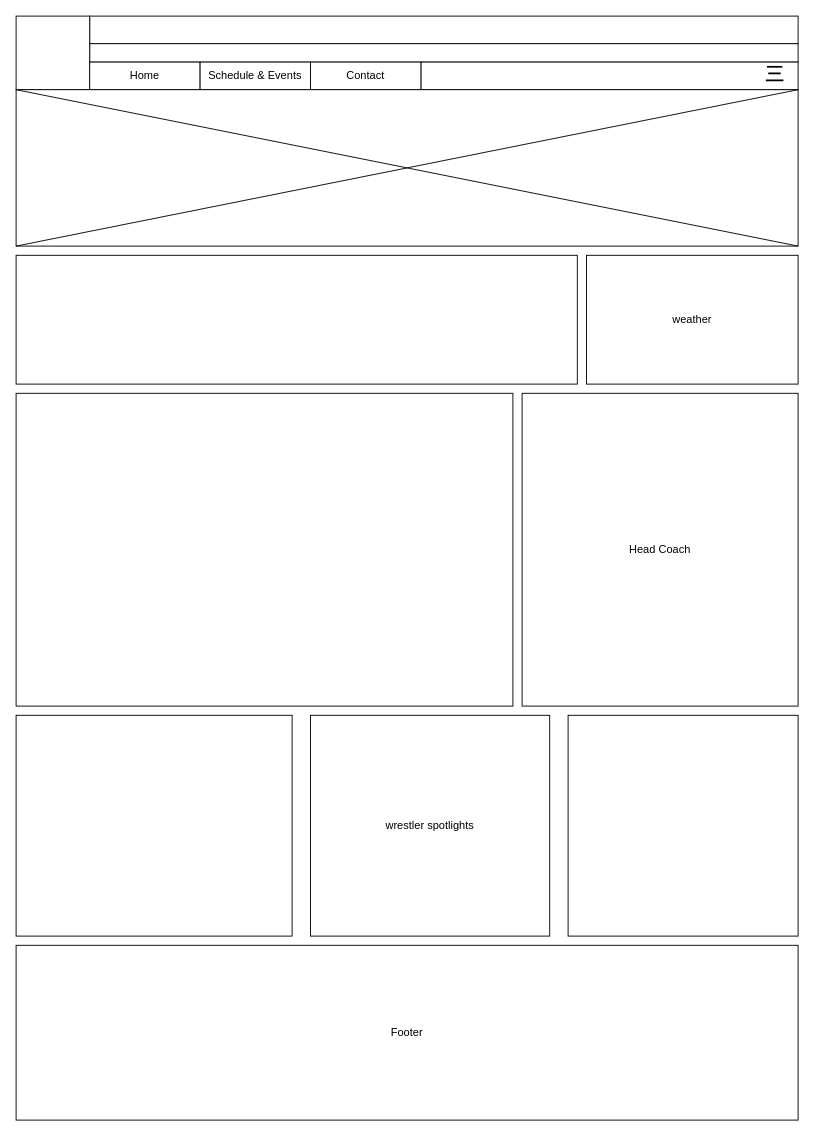
This 815x1136 diagram has some shape labels left out. Here are the shapes that lost their labels. From the top down, the centre of each, then its label:
At (x=52, y=52): "Logo".
At (x=443, y=52): "Title Page Name".
At (x=296, y=319): "join newsletter".
At (x=264, y=549): "upcoming events".
